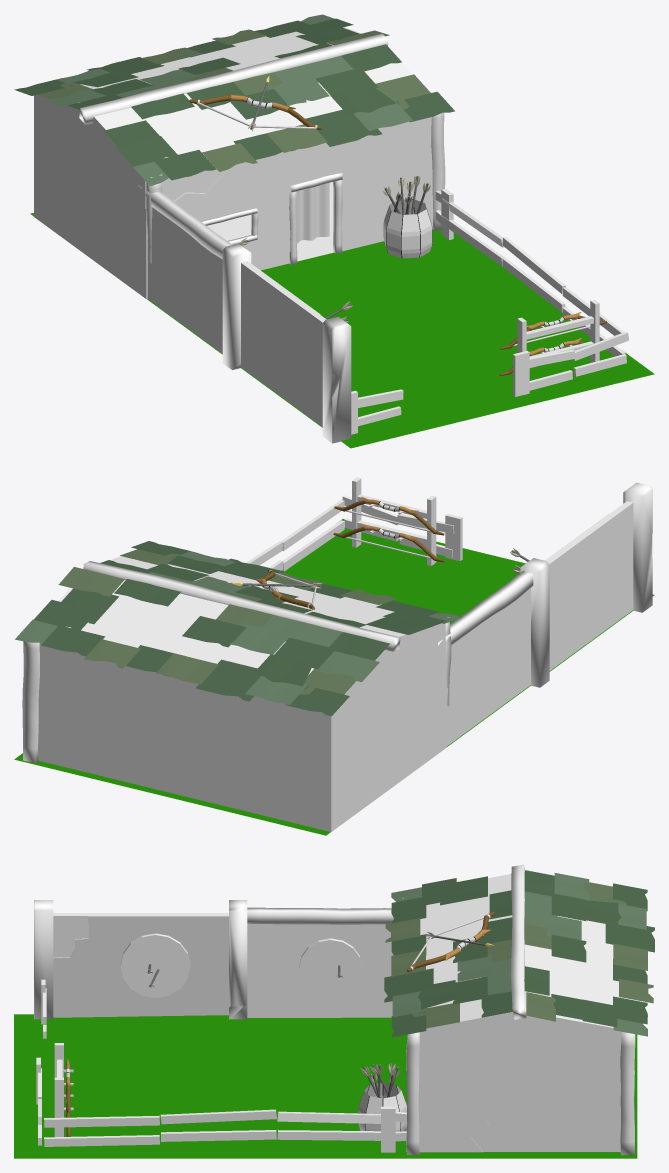
The model's file is Archery.gltf.
3 renders of one model, top to bottom at view 1: azimuth 30°, elevation 25°; view 2: azimuth 150°, elevation 25°; view 3: azimuth 270°, elevation 25°, orthographic. The views are drawn at different scales.
Visible parts, largest first — view 1: Cube, Plane.027, Cube.002, Plane, Cube.003, Cube.001, Cube.016, Plane.013, Cylinder, Cube.009, Plane.011, Cube.010 (+17 smaller); view 2: Cube, Plane.027, Cube.002, Cube.003, Plane.013, Cube.001, Plane, Cube.016, Plane.024, Cube.007, Plane.017, Cube.006 (+19 smaller); view 3: Plane.027, Cube, Cube.002, Cube.003, Plane.013, Plane, Cube.001, Cube.009, Cube.010, Cylinder.002, Cylinder.003, Cube.006 (+28 smaller).
Boxes of the visible parts, x1,y1,x2,y2 form: Cube: [34, 27, 433, 298]; Plane.027: [30, 213, 654, 448]; Cube.002: [241, 261, 326, 426]; Plane: [116, 67, 454, 180]; Cube.003: [147, 207, 222, 353]; Cube.001: [222, 243, 351, 443]; Cube.016: [79, 33, 388, 124]; Plane.013: [14, 18, 353, 96]; Cylinder: [383, 199, 432, 258]; Cube.009: [435, 190, 623, 335]; Plane.011: [131, 76, 329, 119]; Cube.010: [435, 210, 625, 356]; Cube: [38, 556, 446, 831]; Plane.027: [14, 519, 654, 835]; Cube.002: [545, 501, 633, 670]; Cube.003: [446, 588, 530, 746]; Plane.013: [33, 600, 349, 716]; Cube.001: [520, 482, 652, 687]; Plane: [131, 541, 446, 627]; Cube.016: [83, 561, 400, 651]; Plane.024: [114, 579, 290, 654]; Cube.007: [22, 641, 39, 763]; Plane.017: [58, 567, 273, 627]; Cube.006: [438, 571, 533, 645]; Plane.027: [14, 1014, 637, 1158]; Cube: [418, 874, 627, 1152]; Cube.002: [53, 913, 228, 1017]; Cube.003: [247, 923, 393, 1017]; Plane.013: [551, 883, 654, 1027]; Plane: [384, 878, 487, 1037]; Cube.001: [34, 900, 247, 1019]; Cube.009: [44, 1109, 406, 1127]; Cube.010: [44, 1130, 406, 1146]; Cylinder.002: [120, 933, 190, 997]; Cylinder.003: [299, 938, 362, 997]; Cube.006: [247, 907, 393, 924].
Size of the model in its own units: 5.27 by 2.58 by 9.56.
